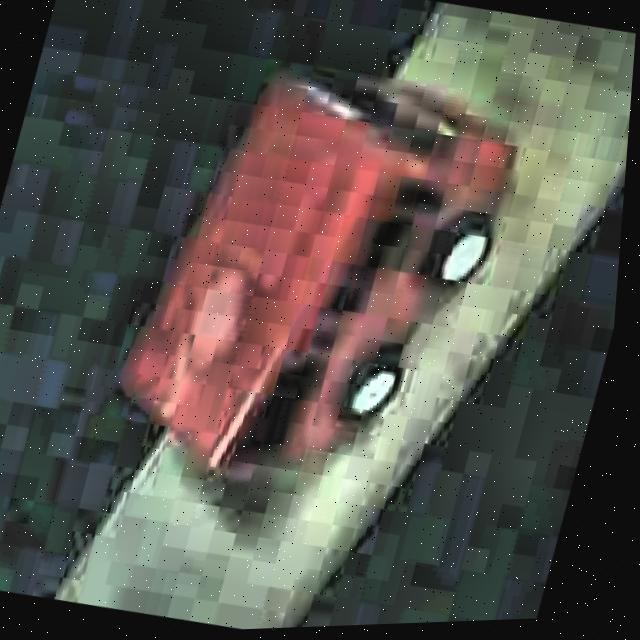bus: (95, 39, 541, 517)
